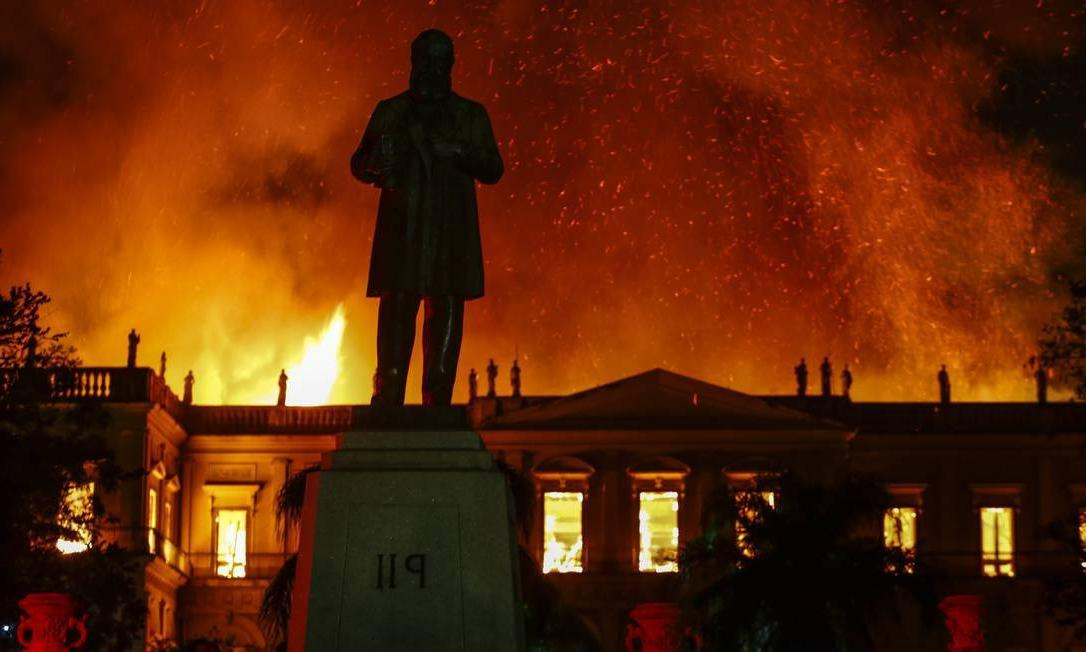Fire: (254, 293, 361, 407), (543, 488, 587, 575), (638, 492, 681, 574), (217, 512, 250, 578), (54, 523, 93, 556)
